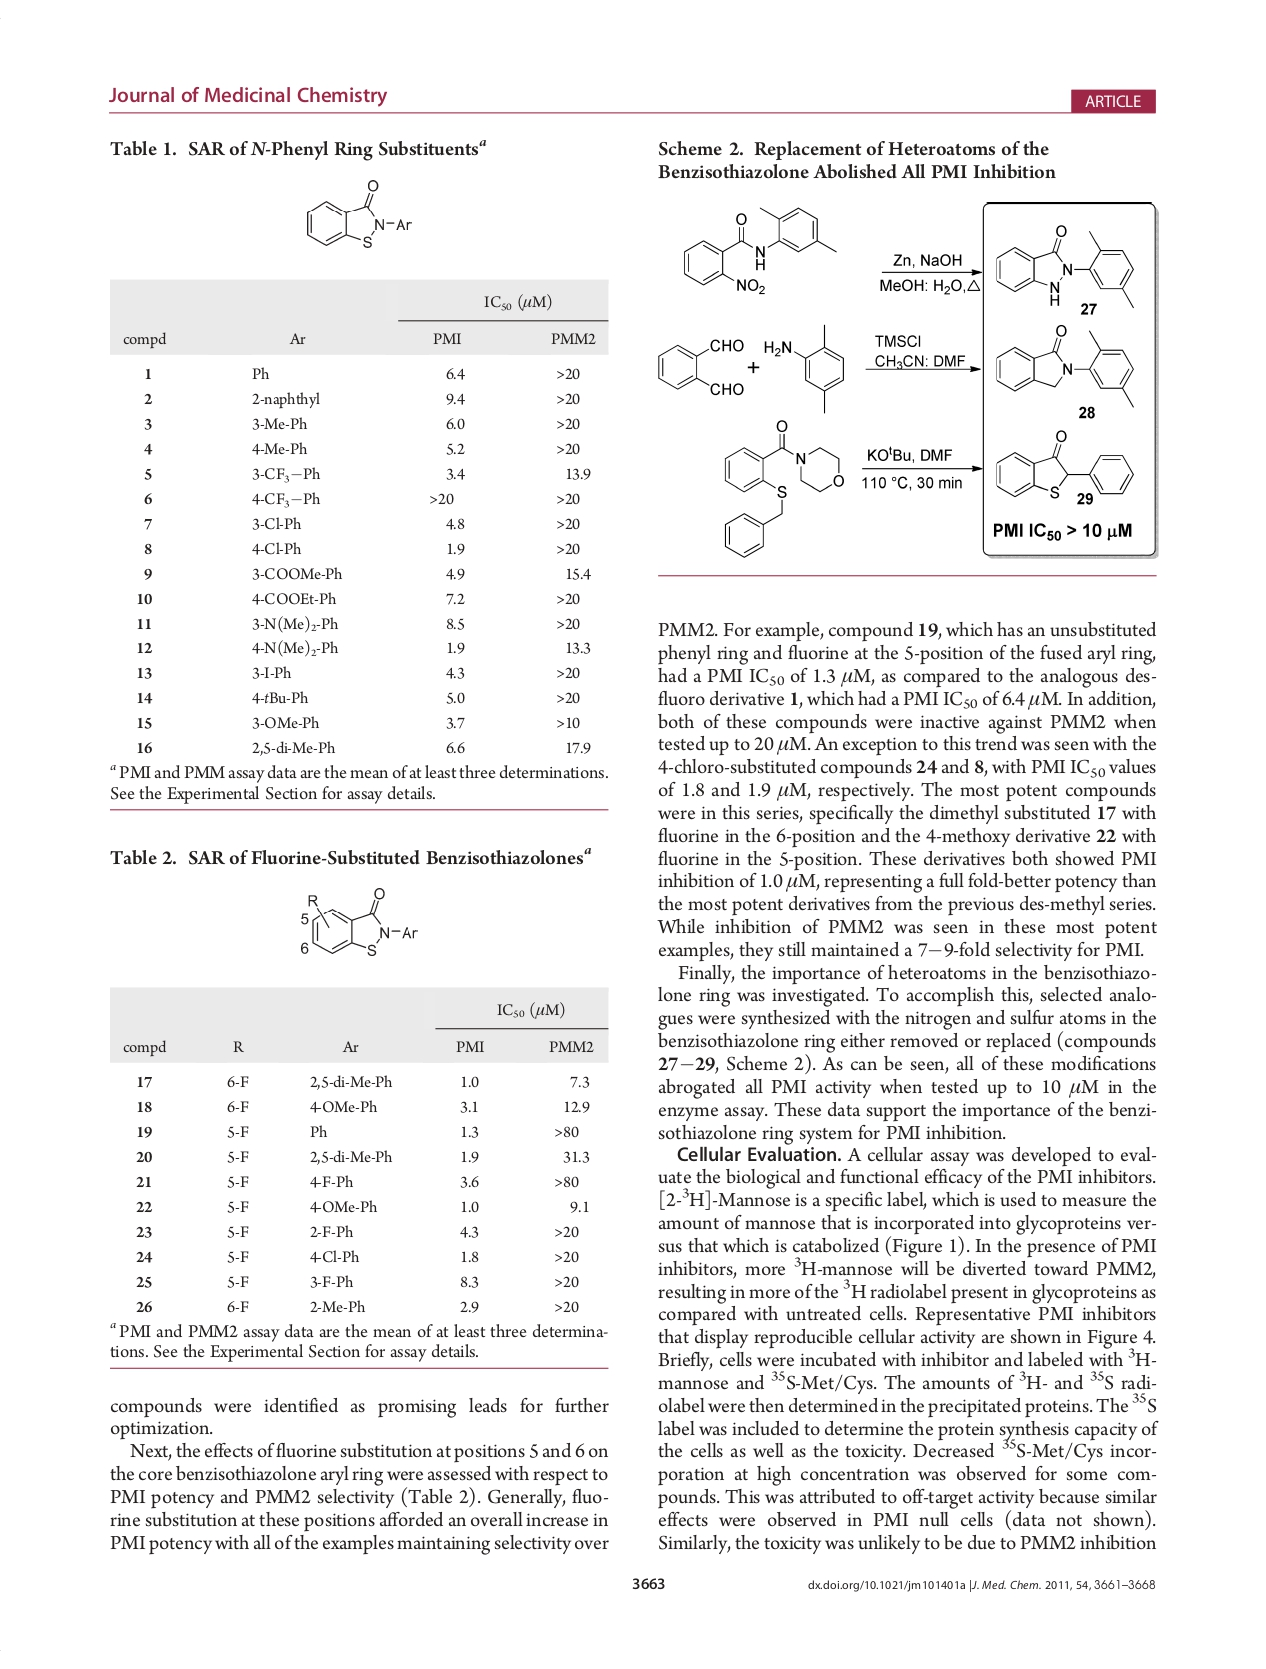exist_molecular: (711, 416, 850, 563), (674, 201, 836, 299), (991, 219, 1137, 311), (989, 322, 1138, 411), (992, 428, 1136, 504), (290, 174, 415, 249), (306, 883, 422, 959), (761, 322, 850, 415), (656, 328, 750, 402)
